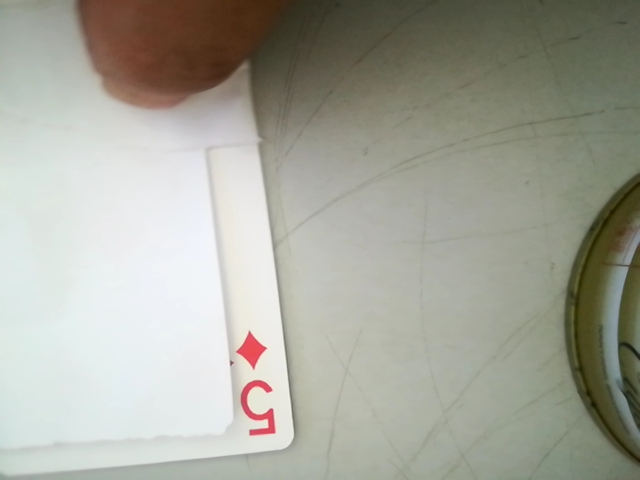fk 5: (218, 324, 284, 447)
